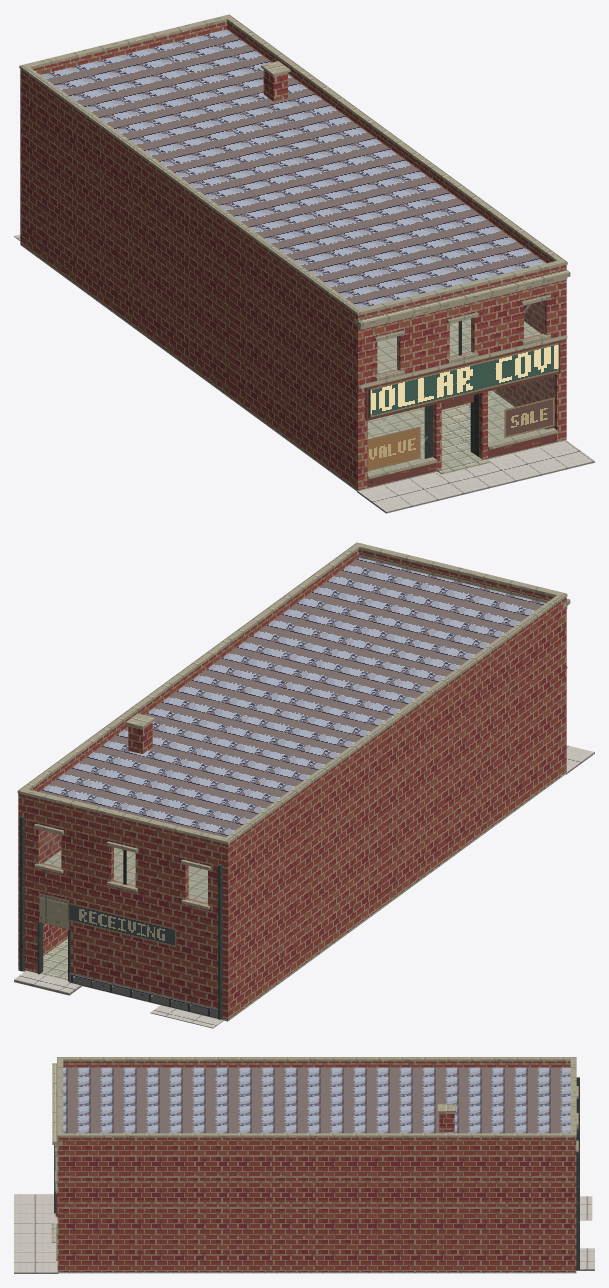
Rendered from marlow-2000-far.glb.
The picture shows the model from 3 angles, top to bottom: view 1: azimuth 30°, elevation 25°; view 2: azimuth 150°, elevation 25°; view 3: azimuth 270°, elevation 25°; orthographic projection. The views are drawn at different scales.
Parts seen in each view (by area): view 1: building_shell, roof_and_parapet, Shared street sidewalk, sign_name, sign_value, sign_sale; view 2: building_shell, roof_and_parapet, sign_receiving, Rear receiving pad, lot; view 3: building_shell, roof_and_parapet, Shared street sidewalk, Rear receiving pad, lot.
Boxes of the visible parts, x1,y1,x2,y2 form: building_shell: (20,29,567,491); roof_and_parapet: (19,14,570,329); Shared street sidewalk: (357,440,594,513); sign_name: (370,343,558,417); sign_value: (367,426,420,471); sign_sale: (504,397,554,438); building_shell: (18,557,567,1021); roof_and_parapet: (17,542,570,854); sign_receiving: (67,902,176,947); Rear receiving pad: (14,970,81,995); lot: (150,1005,223,1028); building_shell: (51,1067,579,1273); roof_and_parapet: (52,1057,576,1147); Shared street sidewalk: (14,1194,58,1273); Rear receiving pad: (576,1248,594,1270); lot: (580,1196,592,1220).
Size of what is drawn, in the model's own units: 10.05 by 9.06 by 31.36.
10 materials, 10 textured.
